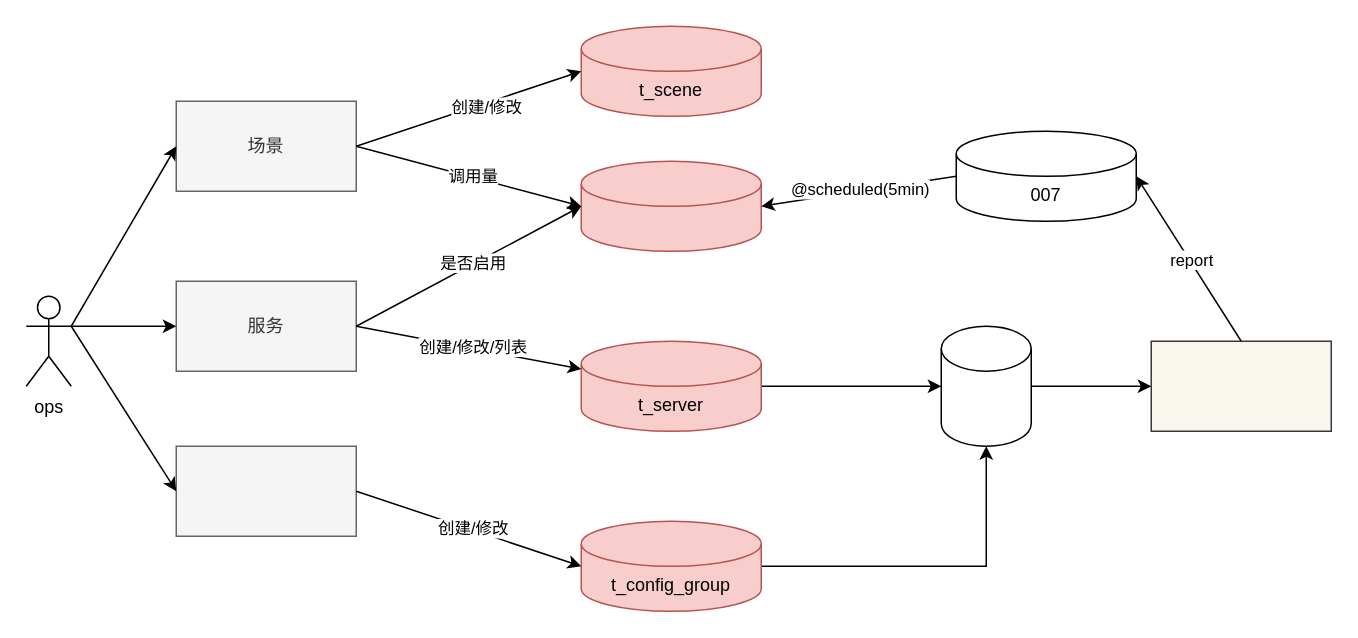
This 1358x638 diagram has some shape labels left out. The centre of each missing label's shape, as x and y in pixels:
"DAG" goes at [265,490].
"memory" goes at [670,205].
"Rainbow" goes at [985,385].
"SyncScript" goes at [1240,385].
